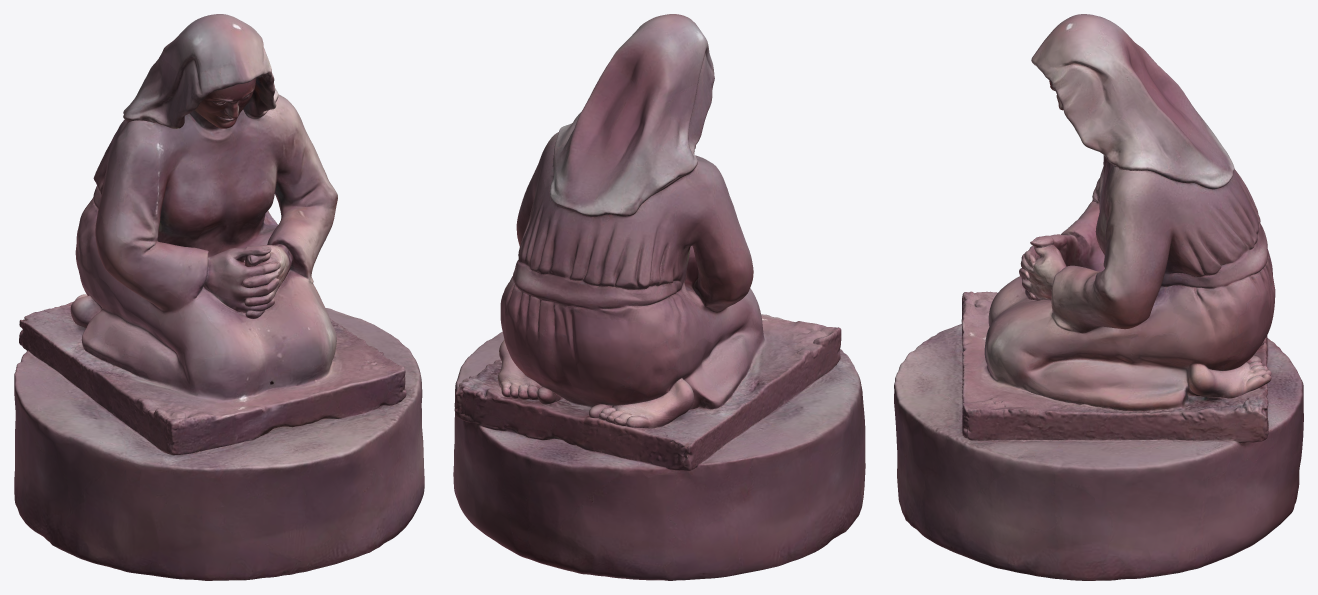
Rendered from la Virgen María-mobile.glb.
3 renders of one model, left to right at view 1: azimuth 30°, elevation 25°; view 2: azimuth 150°, elevation 25°; view 3: azimuth 270°, elevation 25°, orthographic.
Bounding box in the file's own units: 1.49 × 1.9 × 1.49.
1 material, 1 textured.
